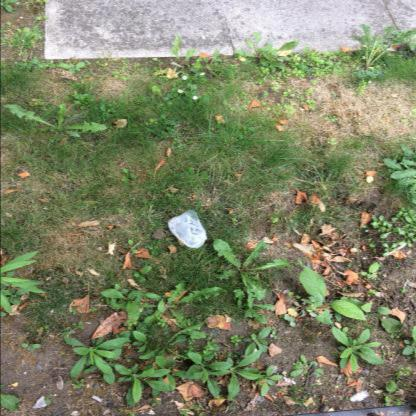Plastic bag - wrapper: (167, 210, 207, 248)
